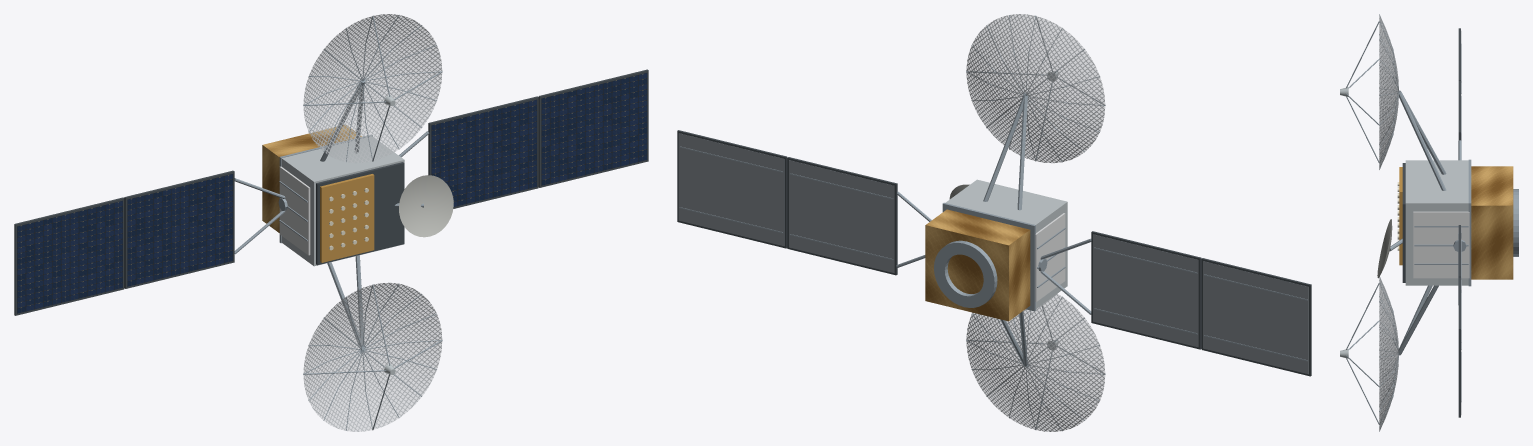
Rendered from tdrs-2.glb.
3 renders of one model, left to right at view 1: azimuth 30°, elevation 25°; view 2: azimuth 150°, elevation 25°; view 3: azimuth 270°, elevation 25°, orthographic. The views are drawn at different scales.
Visible parts, largest first — view 1: Solar cell panel (×4), Single-access reflector (×2), Solar panel frame (×4), Multiple-access antenna deck, Payload module, Earth-facing deck, Space-to-ground antenna, Service module, Radiator face; view 2: Rear array substrate (×4), Single-access reflector (×2), Service module, Solar panel frame (×4), Payload module, Launch adapter ring, Radiator face, Module interface; view 3: Service module, Single-access reflector (×2), Payload module, Radiator face, Gimbaled antenna arm (×4), Earth-facing deck, Module interface, Solar panel frame, Launch adapter ring, Space-to-ground antenna, Multiple-access antenna deck.
Boxes of the visible parts, bbox=[...] form: Solar cell panel (×4): bbox=[17, 73, 647, 313]; Single-access reflector (×2): bbox=[303, 14, 442, 431]; Solar panel frame (×4): bbox=[14, 69, 648, 315]; Multiple-access antenna deck: bbox=[320, 174, 374, 262]; Payload module: bbox=[281, 136, 404, 266]; Earth-facing deck: bbox=[316, 162, 404, 265]; Space-to-ground antenna: bbox=[399, 175, 453, 237]; Service module: bbox=[262, 125, 361, 232]; Radiator face: bbox=[279, 166, 310, 255]; Rear array substrate (×4): bbox=[678, 133, 1308, 374]; Single-access reflector (×2): bbox=[966, 14, 1105, 431]; Service module: bbox=[925, 209, 1030, 321]; Solar panel frame (×4): bbox=[677, 130, 1311, 376]; Payload module: bbox=[945, 179, 1067, 308]; Launch adapter ring: bbox=[934, 240, 997, 307]; Radiator face: bbox=[1035, 213, 1065, 301]; Module interface: bbox=[942, 202, 1035, 311]; Service module: bbox=[1471, 166, 1513, 279]; Single-access reflector (×2): bbox=[1379, 15, 1398, 430]; Payload module: bbox=[1405, 160, 1468, 285]; Radiator face: bbox=[1413, 211, 1469, 278]; Gimbaled antenna arm (×4): bbox=[1397, 90, 1446, 355]; Earth-facing deck: bbox=[1402, 163, 1405, 282]; Module interface: bbox=[1468, 159, 1471, 286]; Solar panel frame: bbox=[1458, 277, 1460, 417]; Launch adapter ring: bbox=[1513, 189, 1518, 256]; Space-to-ground antenna: bbox=[1377, 219, 1392, 278]; Multiple-access antenna deck: bbox=[1399, 167, 1402, 265].
Size of the model in its own units: 20.96 by 13.11 by 5.26.
11 materials, 3 textured.
